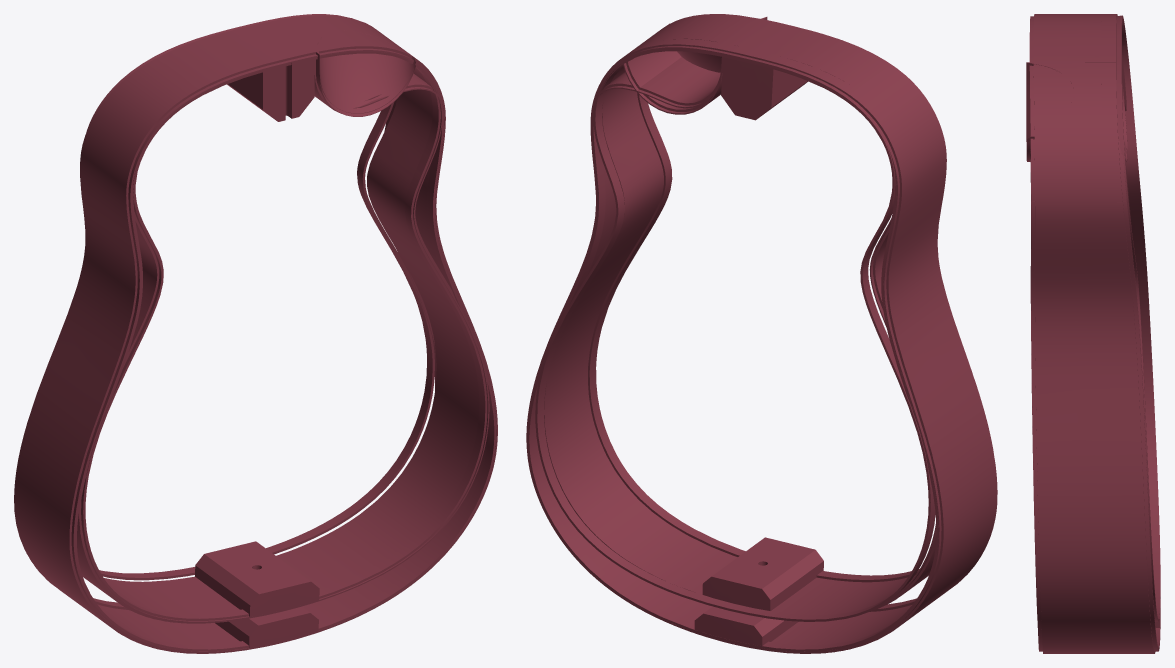
The model's file is sides-collection-transformed.glb.
3 views of the same model, side by side, from view 1: azimuth 30°, elevation 25°; view 2: azimuth 150°, elevation 25°; view 3: azimuth 270°, elevation 25° (orthographic). The views are drawn at different scales.
Visible parts, largest first — view 1: Body_Sides_Arm_Bevel_Scalloped_Cutaway.003, Body_Sides.002, Body_Sides_Arm_Bevel_Florentine_Cutaway.001, Body_Sides.003, Body_Lining_Top.002, Body_Lining_Top.003, Body_Lining_Bottom.003, Body_Sides_Arm_Bevel_Scalloped_Cutaway.002, Body_Tail_Block.003, Body_Sides_Arm_Bevel.001, Body_Sides_Scalloped_Cutaway.001, Body_Tail_Block.002 (+5 smaller); view 2: Body_Sides.002, Body_Sides_Arm_Bevel_Florentine_Cutaway.001, Body_Sides_Arm_Bevel_Scalloped_Cutaway.003, Body_Sides.003, Body_Lining_Bottom.003, Body_Lining_Bottom.002, Body_Tail_Block.003, Body_Lining_Top.003, Body_Sides_Venetian_Cutaway.001, Body_Heel_Block.002, Body_Sides_Florentine_Cutaway.001, Body_Sides_Arm_Bevel.001 (+4 smaller); view 3: Body_Sides_Scalloped_Cutaway.001, Body_Sides_Venetian_Cutaway.001, Body_Sides_Arm_Bevel_Scalloped_Cutaway.002, Body_Sides.002, Body_Sides_Arm_Bevel_Florentine_Cutaway.001, Body_Sides_Arm_Bevel.001, Body_Sides_Arm_Bevel_Venetian_Cutaway.001, Body_Sides_Florentine_Cutaway.001, Body_Lining_Bottom.003, Body_Sides.003, Body_Sides_Arm_Bevel_Scalloped_Cutaway.003, Body_Lining_Bottom.002.
Part boxes in pixels (x1,y1,x2,y2): Body_Sides_Arm_Bevel_Scalloped_Cutaway.003: [77, 20, 489, 623]; Body_Sides.002: [14, 18, 496, 653]; Body_Sides_Arm_Bevel_Florentine_Cutaway.001: [14, 27, 497, 653]; Body_Sides.003: [77, 20, 489, 623]; Body_Lining_Top.002: [74, 51, 496, 651]; Body_Lining_Top.003: [84, 59, 487, 620]; Body_Lining_Bottom.003: [87, 14, 434, 580]; Body_Sides_Arm_Bevel_Scalloped_Cutaway.002: [72, 15, 497, 638]; Body_Tail_Block.003: [195, 541, 319, 616]; Body_Sides_Arm_Bevel.001: [63, 17, 497, 648]; Body_Sides_Scalloped_Cutaway.001: [14, 15, 497, 648]; Body_Tail_Block.002: [215, 606, 318, 647]; Body_Sides.002: [526, 14, 997, 653]; Body_Sides_Arm_Bevel_Florentine_Cutaway.001: [526, 26, 996, 653]; Body_Sides_Arm_Bevel_Scalloped_Cutaway.003: [544, 17, 936, 615]; Body_Sides.003: [544, 14, 936, 614]; Body_Lining_Bottom.003: [535, 46, 935, 621]; Body_Lining_Bottom.002: [527, 49, 938, 651]; Body_Tail_Block.003: [702, 537, 823, 610]; Body_Lining_Top.003: [588, 93, 919, 582]; Body_Sides_Venetian_Cutaway.001: [526, 28, 769, 622]; Body_Heel_Block.002: [721, 57, 807, 120]; Body_Sides_Florentine_Cutaway.001: [526, 51, 893, 641]; Body_Sides_Arm_Bevel.001: [527, 16, 957, 651]; Body_Sides_Scalloped_Cutaway.001: [1026, 14, 1150, 653]; Body_Sides_Venetian_Cutaway.001: [1030, 54, 1157, 653]; Body_Sides_Arm_Bevel_Scalloped_Cutaway.002: [1026, 33, 1157, 653]; Body_Sides.002: [1030, 14, 1159, 653]; Body_Sides_Arm_Bevel_Florentine_Cutaway.001: [1029, 14, 1158, 653]; Body_Sides_Arm_Bevel.001: [1029, 16, 1154, 652]; Body_Sides_Arm_Bevel_Venetian_Cutaway.001: [1030, 42, 1158, 653]; Body_Sides_Florentine_Cutaway.001: [1030, 19, 1159, 653]; Body_Lining_Bottom.003: [1116, 15, 1160, 621]; Body_Sides.003: [1029, 14, 1101, 619]; Body_Sides_Arm_Bevel_Scalloped_Cutaway.003: [1026, 15, 1101, 613]; Body_Lining_Bottom.002: [1122, 21, 1160, 649].
Size of the model in its own units: 0.000392 by 0.000514 by 0.00011.
